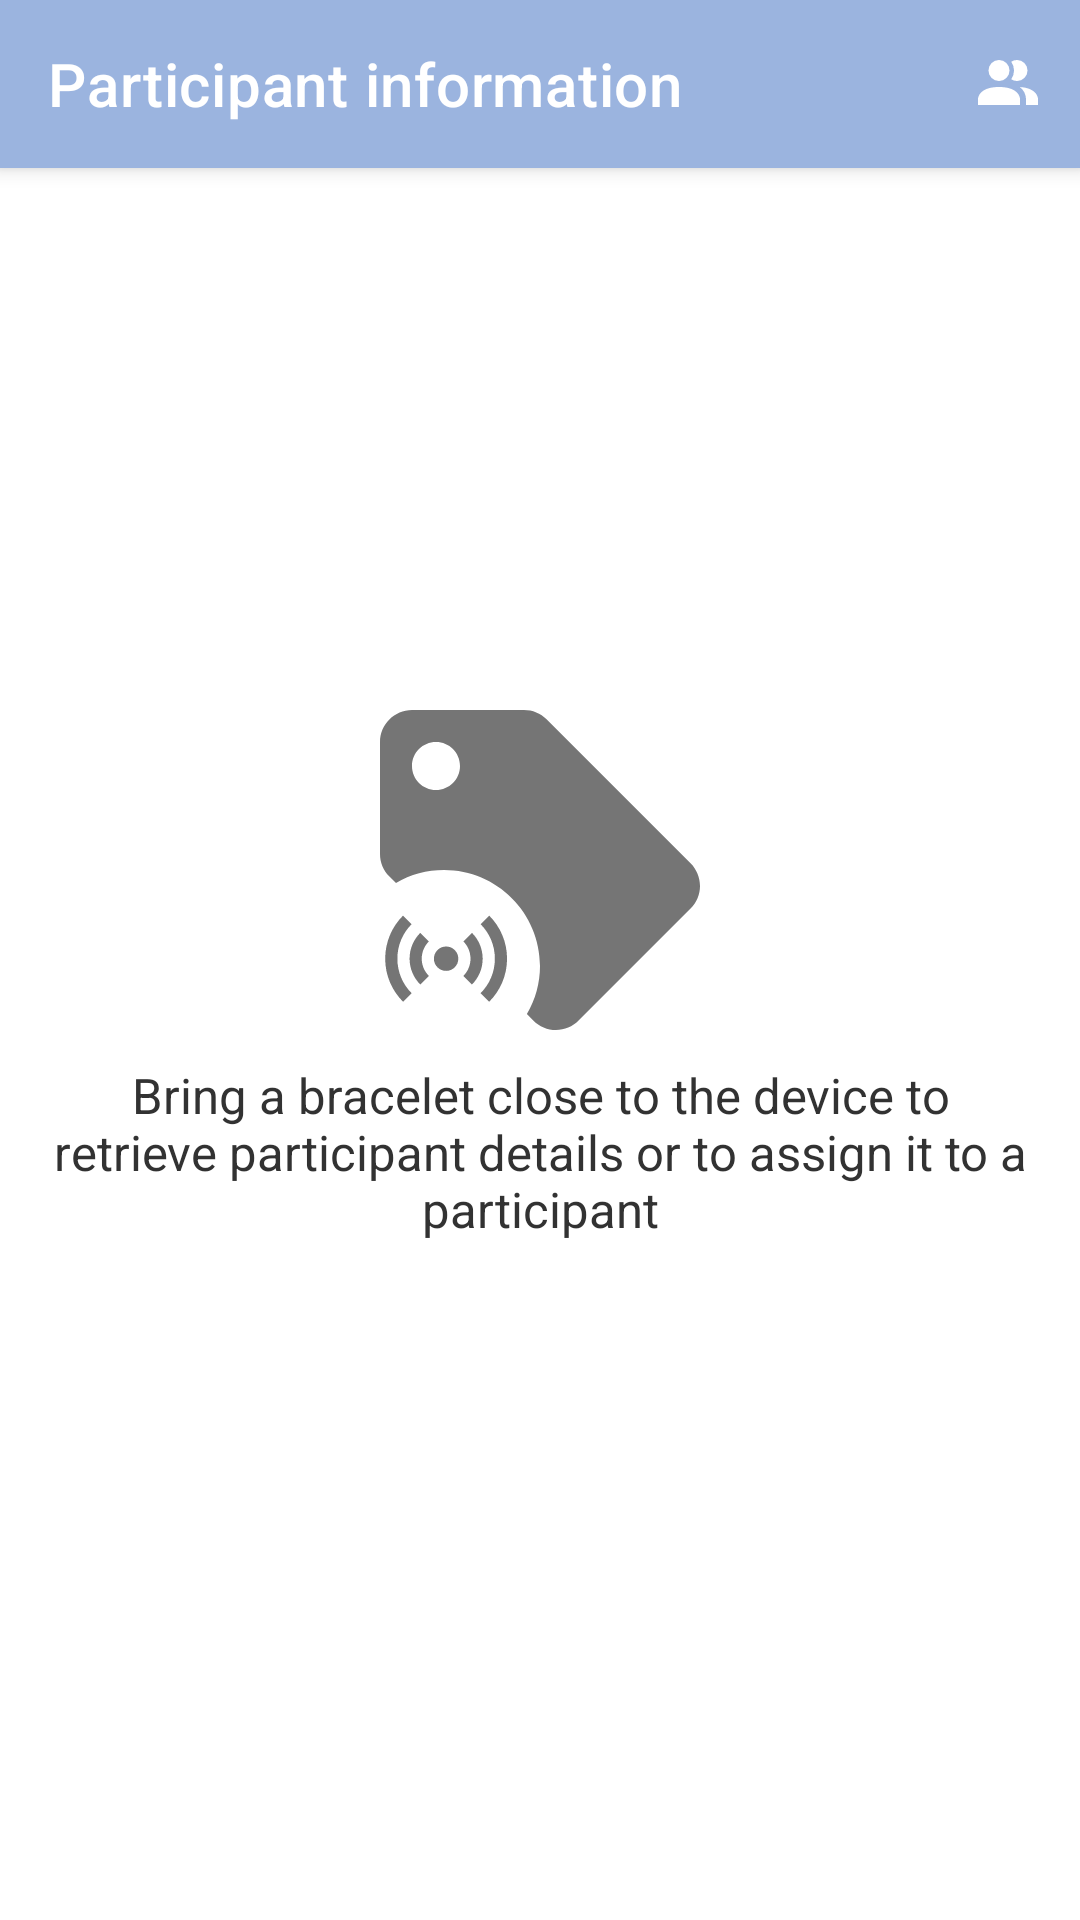

Icon click points for this 1080x1920 phone screenshot, format (x,y):
Icon of bracelet scanning: (540,870)
